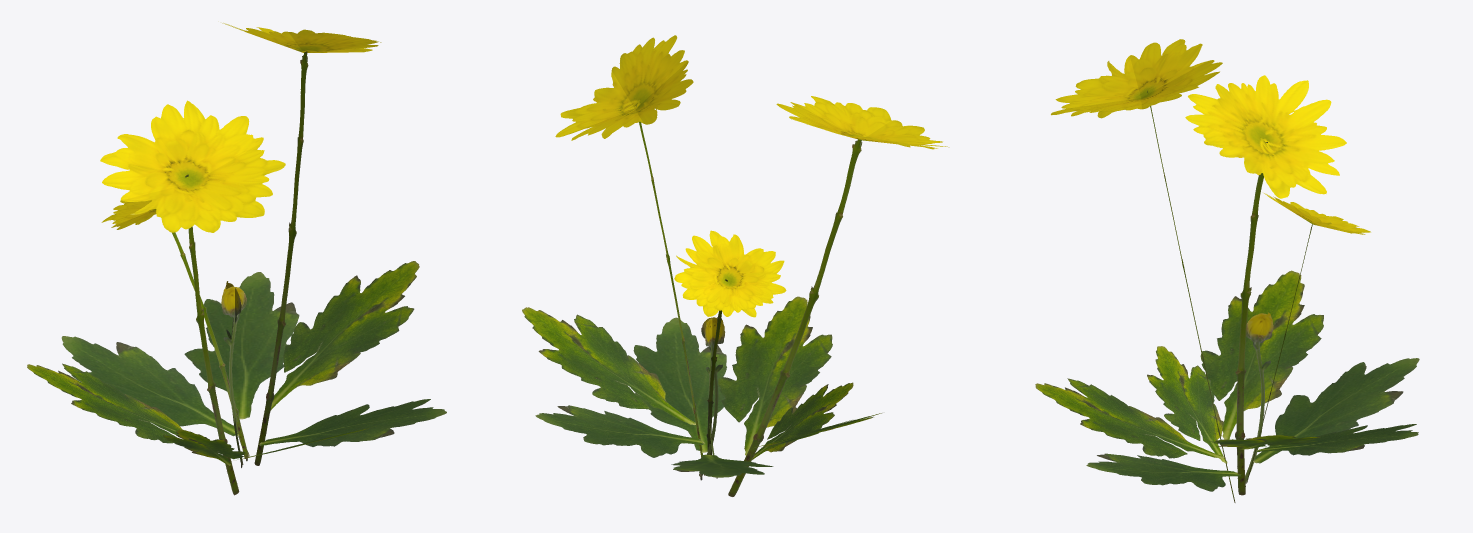
File: YellowFlower.fbx
3 views of the same model, side by side, from view 1: azimuth 30°, elevation 25°; view 2: azimuth 150°, elevation 25°; view 3: azimuth 270°, elevation 25° (orthographic). The views are drawn at different scales.
Parts seen in each view (by area): view 1: YellowFlower1.008; view 2: YellowFlower1.008; view 3: YellowFlower1.008.
Boxes of the visible parts, left/top/right/bottom form: YellowFlower1.008: left=27, top=23, right=446, bottom=495; YellowFlower1.008: left=522, top=35, right=949, bottom=496; YellowFlower1.008: left=1035, top=39, right=1419, bottom=502.
Bounding box in the file's own units: 79.09 × 88.68 × 73.94.
